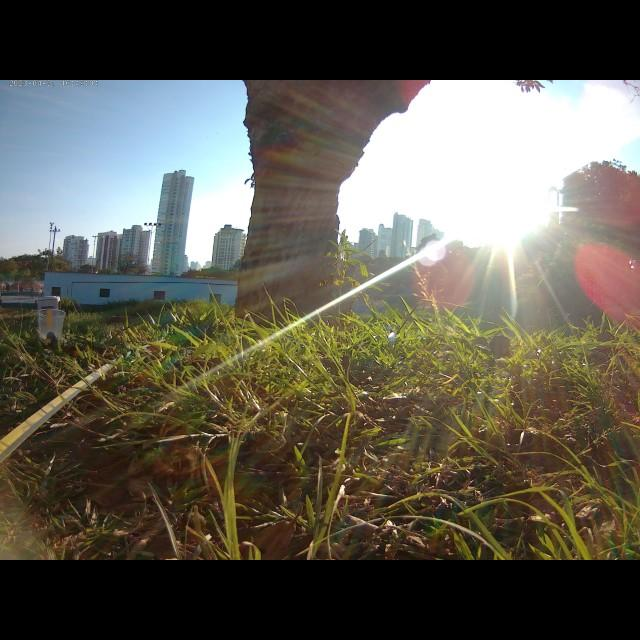arvore: (227, 81, 432, 334)
